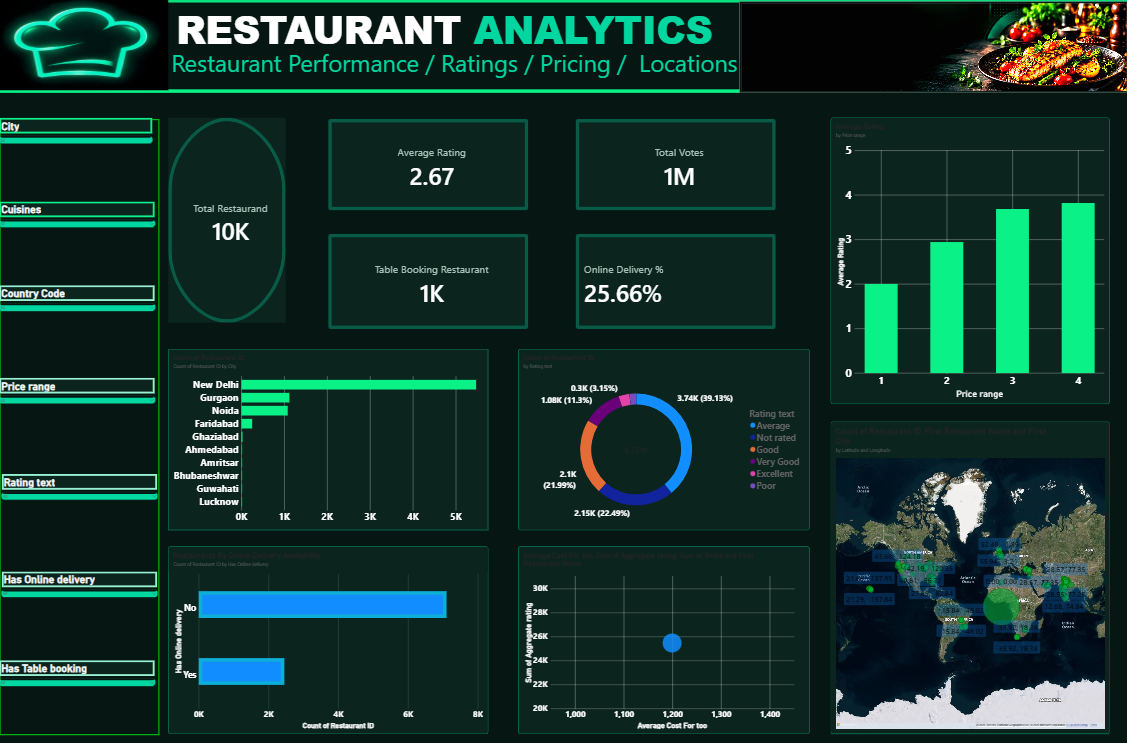

Layout of this report page (visuals, bound fields, positions):
{"tool":"powerbi","page":{"name":"Page 1","canvas":[3851,2537],"ordinal":0},"visuals":[{"type":"textbox","box":[10.3,0,279.9,279.9],"z":0},{"type":"textbox","box":[0,0,2954.5,280.6],"z":2000},{"type":"cardVisual","fields":{"Data":["Restaurants.Total Restaurand"]},"box":[582.4,403.8,399.6,697.2],"z":3000},{"type":"cardVisual","fields":{"Data":["Restaurants.Average Rating"]},"box":[1126.5,408.1,680.2,310.3],"z":4000},{"type":"cardVisual","fields":{"Data":["Restaurants.Total Votes"]},"box":[1968.2,408.1,680.2,310.3],"z":5000},{"type":"cardVisual","fields":{"Data":["Restaurants.Online Delivery %"]},"box":[1968.2,799.2,680.2,323.1],"z":6000},{"type":"cardVisual","fields":{"Data":["Restaurants.Table Booking Restaurant"]},"box":[1126.5,799.2,680.2,323.1],"z":7000},{"type":"shape","box":[8.5,408.1,544.1,2095.8],"z":7500},{"type":"slicer","fields":{"Values":["Restaurants.City"]},"box":[0,403.8,535.6,280.6],"z":8000},{"type":"slicer","fields":{"Values":["Restaurants.Cuisines"]},"box":[0,688.7,544.1,284.8],"z":9000},{"type":"slicer","fields":{"Values":["Restaurants.Country Code"]},"box":[0,973.5,544.1,293.3],"z":10000},{"type":"slicer","fields":{"Values":["Restaurants.Price range"]},"box":[0,1288.1,544.1,293.3],"z":11000},{"type":"slicer","fields":{"Values":["Restaurants.Rating text"]},"box":[8.5,1615.4,544.1,293.3],"z":12000},{"type":"slicer","fields":{"Values":["Restaurants.Has Online delivery"]},"box":[8.5,1947,544.1,263.6],"z":13000},{"type":"slicer","fields":{"Values":["Restaurants.Has Table booking"]},"box":[0,2248.8,544.1,250],"z":14000},{"type":"clusteredBarChart","title":"Count of Restaurant  ID","fields":{"Category":["Restaurants.City"],"Y":["Count(Restaurants.Restaurant ID)"]},"box":[582.4,1190.3,1088.3,616.4],"z":15000},{"type":"donutChart","fields":{"Category":["Restaurants.Rating text"],"Y":["Count(Restaurants.Restaurant ID)"]},"box":[1772.7,1190.3,990.5,616.4],"z":16000},{"type":"clusteredColumnChart","fields":{"Category":["Restaurants.Price range"],"Y":["Restaurants.Average Rating"]},"box":[2835.4,403.8,948,973.5],"z":17000},{"type":"clusteredBarChart","title":"Restaurants  By Online Delivery Availability","fields":{"Category":["Restaurants.Has Online delivery"],"Y":["Count(Restaurants.Restaurant ID)"]},"box":[582.4,1862,1088.3,637.7],"z":18000},{"type":"scatterChart","fields":{"Size":["Sum(Restaurants.Votes)"],"X":["Restaurants.Average Cost For too"],"Y":["Sum(Restaurants.Aggregate rating)"]},"box":[1772.7,1862,990.5,637.7],"z":19000},{"type":"map","fields":{"Size":["Count(Restaurants.Restaurant ID)"],"X":["Restaurants.Longitude"],"Y":["Restaurants.Latitude"]},"box":[2835.4,1436.8,948,1062.8],"z":20000},{"type":"textbox","box":[0,0,3851.4,318.8],"z":21000},{"type":"textbox","box":[0,161.5,2716.4,157.3],"z":22000},{"type":"image","box":[2525.1,8.5,1326.3,310.3],"z":22001},{"type":"image","box":[0,0,582.4,310.3],"z":22002}]}

Visuals, with their boxes in screenshot pixels (x1, y1, x2, y2), scaled from the page's 3851x2537 canvas onto the 1127x743 screenshot:
textbox: [x1=3, y1=0, x2=85, y2=82]
textbox: [x1=0, y1=0, x2=865, y2=82]
cardVisual - Restaurants.Total Restaurand: [x1=170, y1=118, x2=287, y2=322]
cardVisual - Restaurants.Average Rating: [x1=330, y1=120, x2=529, y2=210]
cardVisual - Restaurants.Total Votes: [x1=576, y1=120, x2=775, y2=210]
cardVisual - Restaurants.Online Delivery %: [x1=576, y1=234, x2=775, y2=329]
cardVisual - Restaurants.Table Booking Restaurant: [x1=330, y1=234, x2=529, y2=329]
shape: [x1=2, y1=120, x2=162, y2=733]
slicer - Restaurants.City: [x1=0, y1=118, x2=157, y2=200]
slicer - Restaurants.Cuisines: [x1=0, y1=202, x2=159, y2=285]
slicer - Restaurants.Country Code: [x1=0, y1=285, x2=159, y2=371]
slicer - Restaurants.Price range: [x1=0, y1=377, x2=159, y2=463]
slicer - Restaurants.Rating text: [x1=2, y1=473, x2=162, y2=559]
slicer - Restaurants.Has Online delivery: [x1=2, y1=570, x2=162, y2=647]
slicer - Restaurants.Has Table booking: [x1=0, y1=659, x2=159, y2=732]
"Count of Restaurant  ID" clusteredBarChart: [x1=170, y1=349, x2=489, y2=529]
donutChart - Restaurants.Rating text x Count(Restaurants.Restaurant ID): [x1=519, y1=349, x2=809, y2=529]
clusteredColumnChart - Restaurants.Price range x Restaurants.Average Rating: [x1=830, y1=118, x2=1107, y2=403]
"Restaurants  By Online Delivery Availability" clusteredBarChart: [x1=170, y1=545, x2=489, y2=732]
scatterChart - Sum(Restaurants.Votes) x Restaurants.Average Cost For too: [x1=519, y1=545, x2=809, y2=732]
map - Count(Restaurants.Restaurant ID) x Restaurants.Longitude: [x1=830, y1=421, x2=1107, y2=732]
textbox: [x1=0, y1=0, x2=1126, y2=93]
textbox: [x1=0, y1=47, x2=795, y2=93]
image: [x1=739, y1=2, x2=1126, y2=93]
image: [x1=0, y1=0, x2=170, y2=91]
